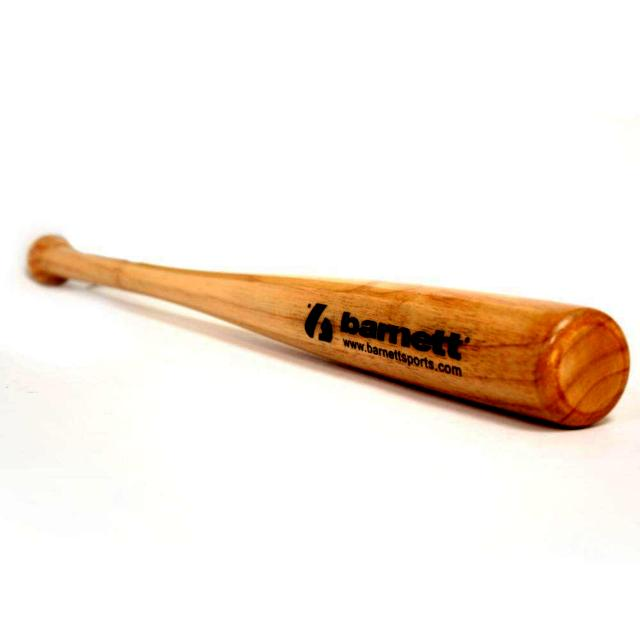baseball bat: (29, 234, 632, 432)
